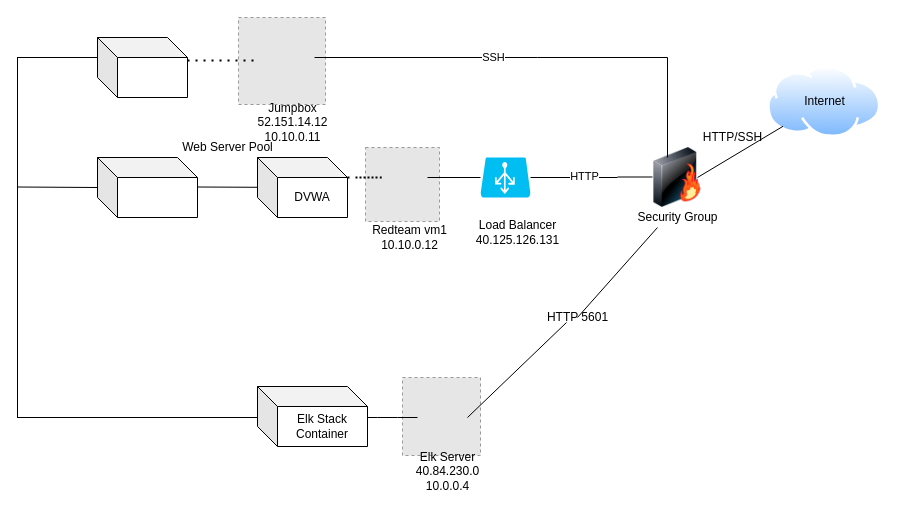
This 898x514 diagram has some shape labels left out. Grey dashed boxes stand in for pictures. Each missing label, with the centre of its shape:
Ansible Container: point (142, 67)
Filebeat: point (147, 187)
